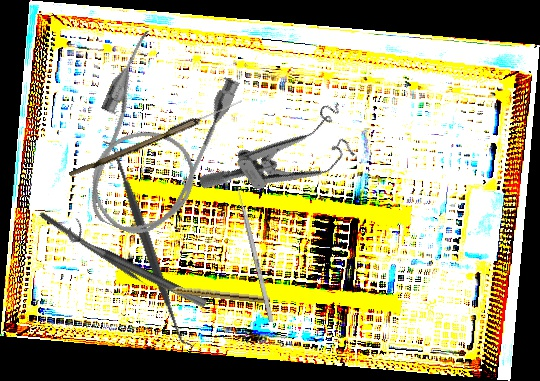Cannula: (60, 26, 245, 250)
Fixation Ring: (64, 216, 214, 310)
Handpiece: (160, 283, 271, 304)
Pusher: (38, 211, 159, 296), (233, 176, 274, 323)
Spatula Surgical: (99, 134, 197, 355)
Speculum: (197, 90, 368, 236)
Surgical Spoon: (68, 96, 244, 181)
